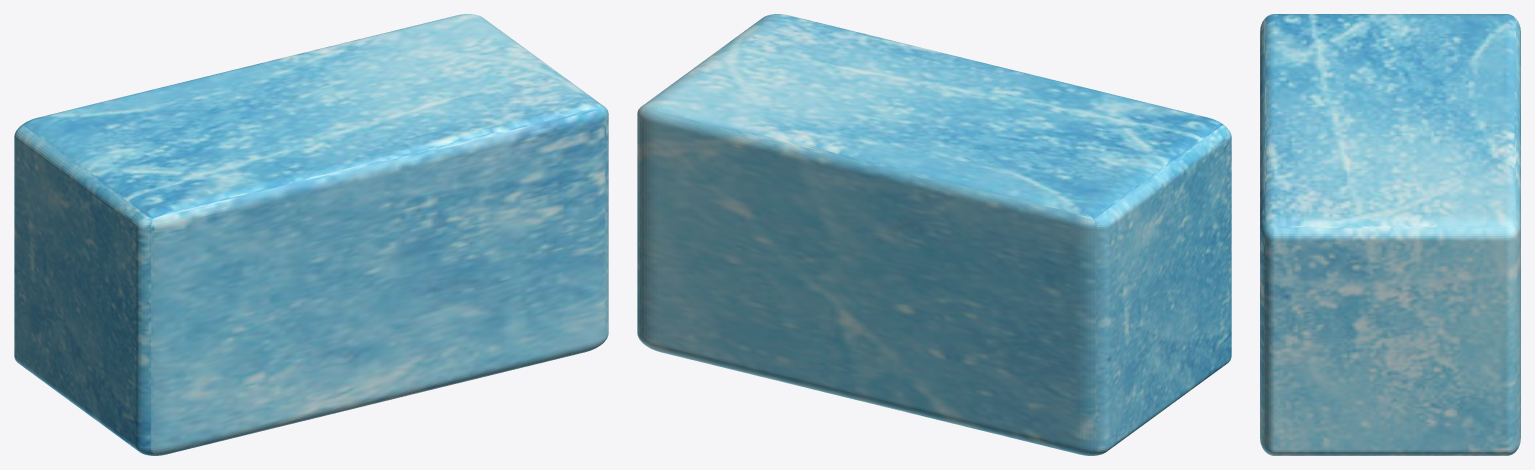
Rendered from ice_double_box.fbx.
3 renders of one model, left to right at view 1: azimuth 30°, elevation 25°; view 2: azimuth 150°, elevation 25°; view 3: azimuth 270°, elevation 25°, orthographic. The views are drawn at different scales.
Parts seen in each view (by area): view 1: Cube; view 2: Cube; view 3: Cube.
Boxes of the visible parts, bbox=[...] form: Cube: bbox=[14, 14, 608, 455]; Cube: bbox=[637, 14, 1231, 455]; Cube: bbox=[1260, 14, 1520, 455].
Size of the model in its own units: 400 by 200 by 200.
